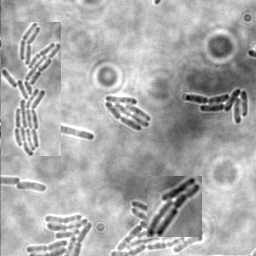Microcolony: (1, 22, 61, 156), (109, 200, 205, 255), (147, 176, 202, 237), (25, 212, 94, 255), (184, 89, 248, 126), (103, 96, 150, 132), (16, 182, 48, 193)
